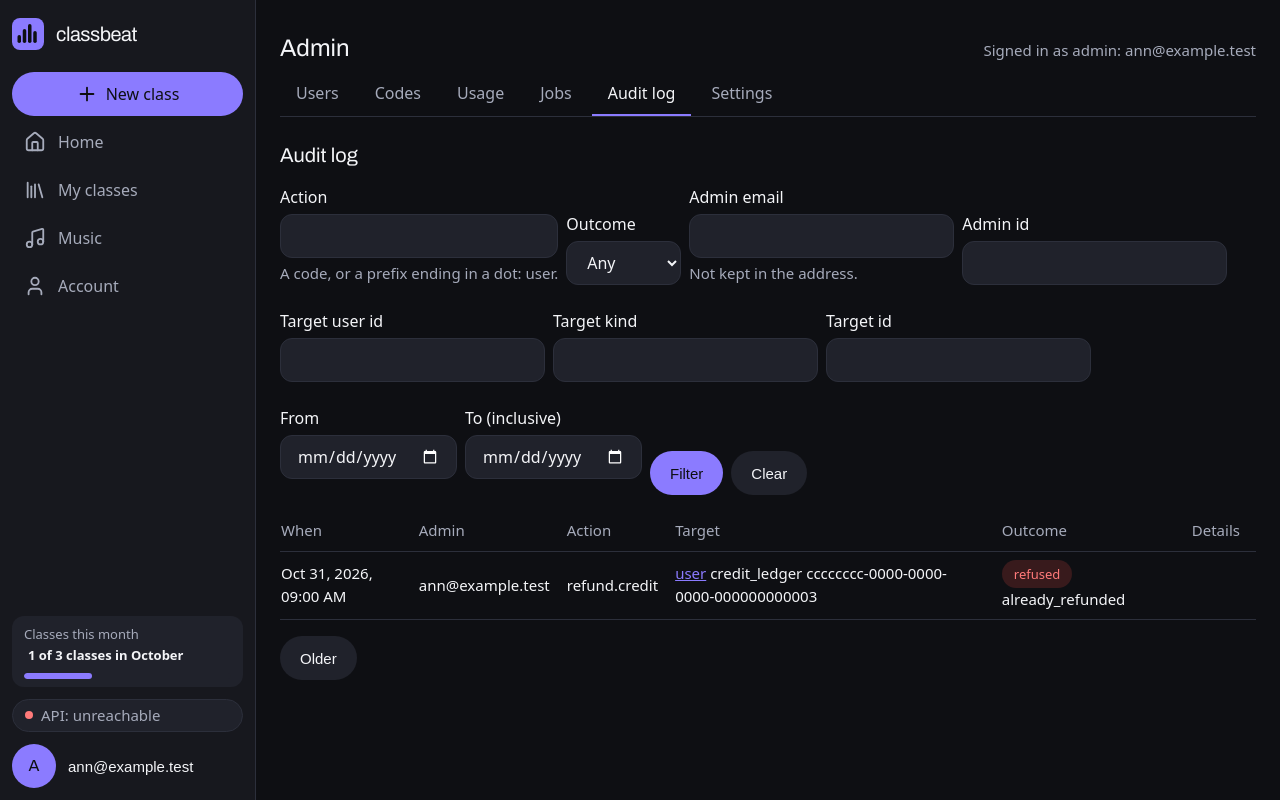
Scenario: admin audit log › pages with the cursor and back
Click the button "Older": point(318, 658) [280, 636, 357, 680]
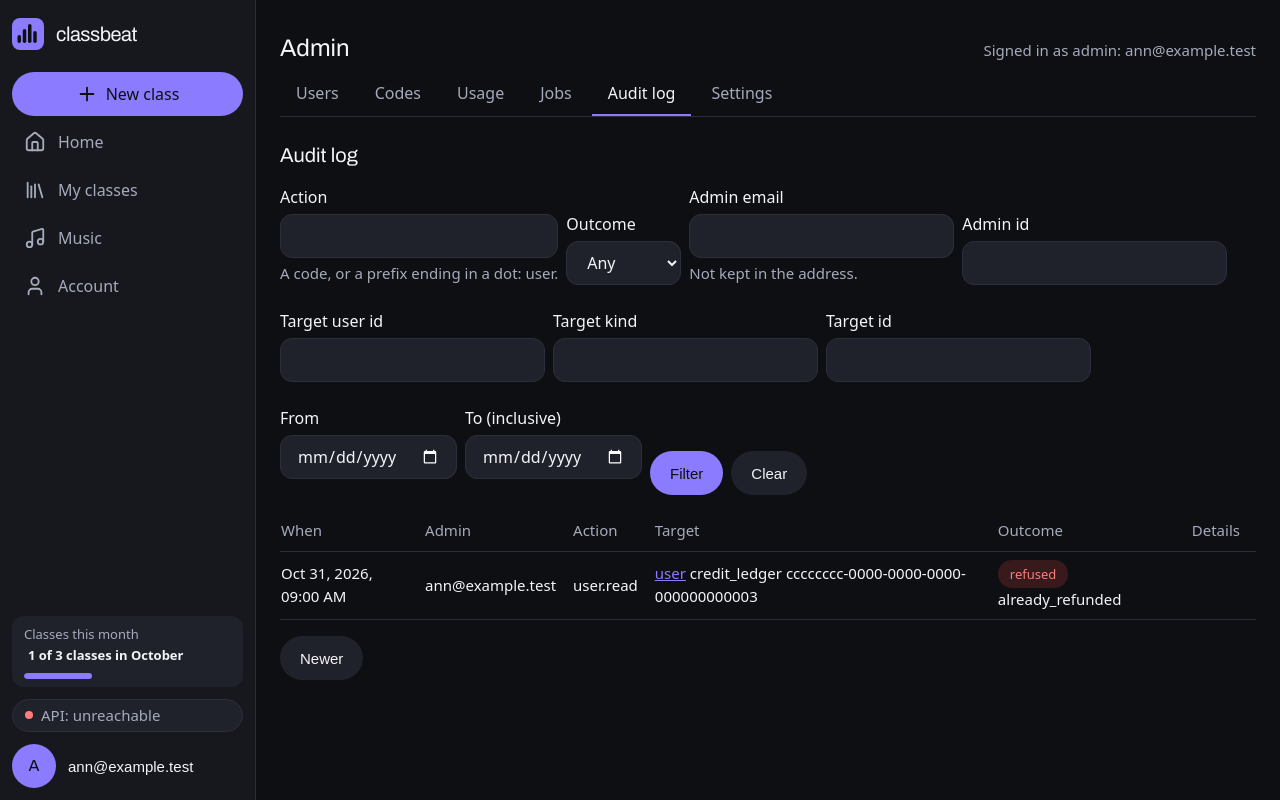
Now the text "user.read" is shown, box [572, 552, 654, 620]
Now the button "Older" is gone
Click the button "Newer": point(322, 658) [280, 636, 363, 680]
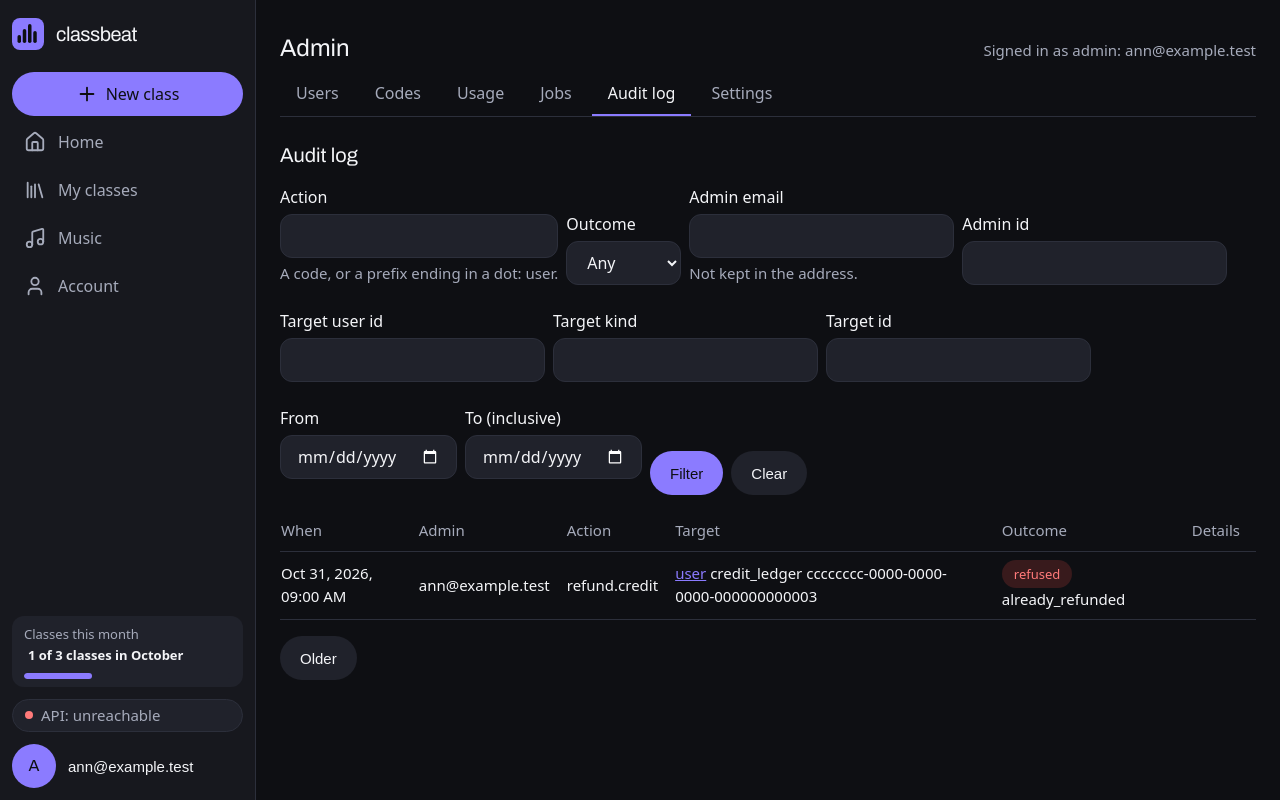
Now the text "refund.credit" is shown, box [566, 552, 674, 620]
